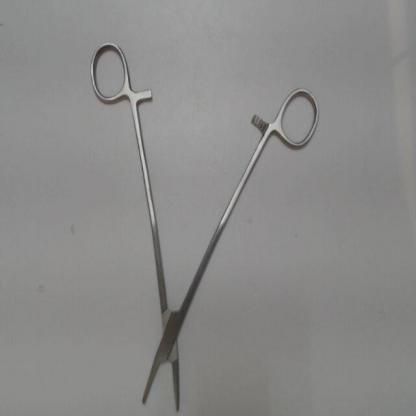8 Mayo Needle Holder: (86, 37, 329, 415)
